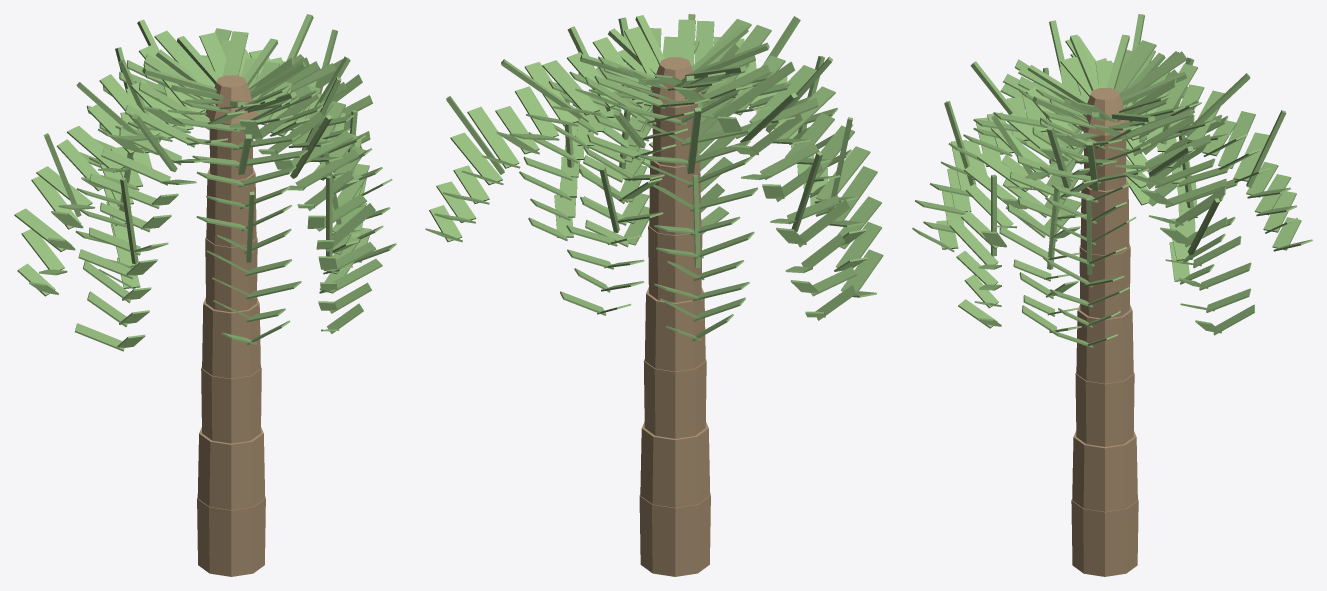
The model's file is botanical-glasshouse-and-palm-house-botanical-glasshou-4c756b28__38576.glb.
The picture shows the model from 3 angles, left to right: view 1: azimuth 30°, elevation 25°; view 2: azimuth 150°, elevation 25°; view 3: azimuth 270°, elevation 25°; orthographic projection. The views are drawn at different scales.
Parts seen in each view (by area): view 1: botanical-glasshouse-and-palm-house-palm-short; view 2: botanical-glasshouse-and-palm-house-palm-short; view 3: botanical-glasshouse-and-palm-house-palm-short.
Boxes of the visible parts, x1,y1,x2,y2 form: botanical-glasshouse-and-palm-house-palm-short: [14, 14, 396, 576]; botanical-glasshouse-and-palm-house-palm-short: [425, 14, 883, 576]; botanical-glasshouse-and-palm-house-palm-short: [912, 14, 1312, 576].
Size of the model in its own units: 1.98 by 2.57 by 1.89.
